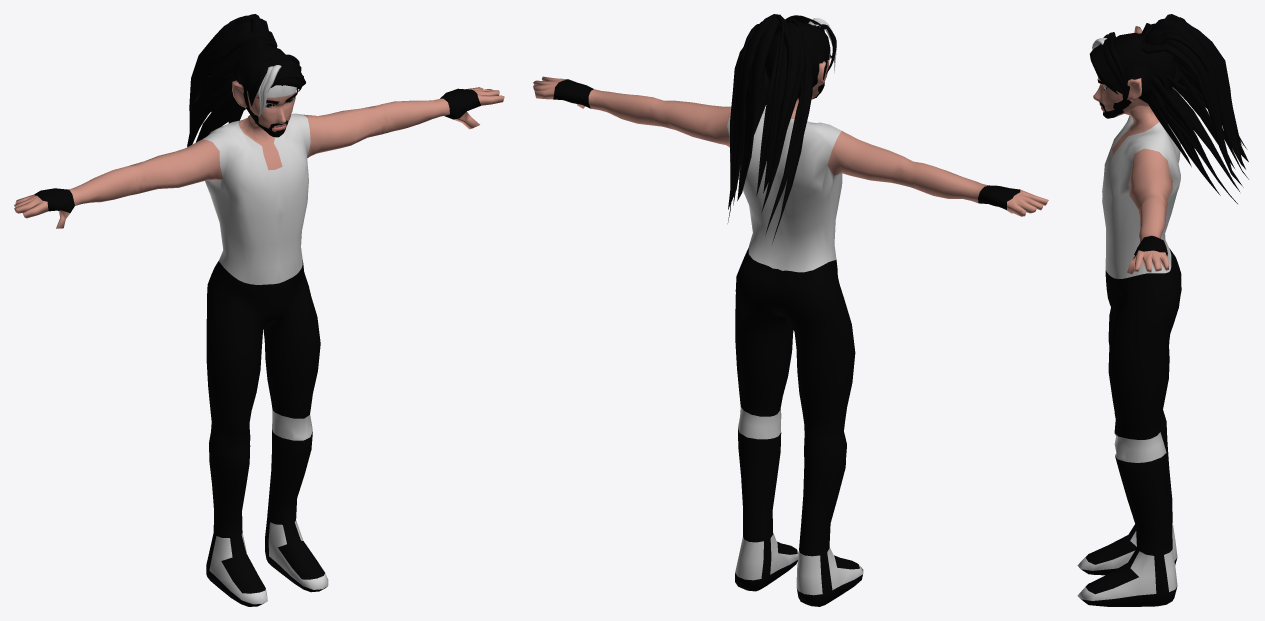
File: ANI_FORTE3.fbx
3 renders of one model, left to right at view 1: azimuth 30°, elevation 25°; view 2: azimuth 150°, elevation 25°; view 3: azimuth 270°, elevation 25°, orthographic. The views are drawn at different scales.
Visible parts, largest first — view 1: CABELO, CABELO.001, CABELO.002; view 2: CABELO, CABELO.001, CABELO.002; view 3: CABELO, CABELO.001, CABELO.002.
Boxes of the visible parts, x1=… form: CABELO: x1=14, y1=87, x2=504, y2=606; CABELO.001: x1=187, y1=14, x2=305, y2=146; CABELO.002: x1=232, y1=45, x2=298, y2=137; CABELO: x1=533, y1=76, x2=1048, y2=606; CABELO.001: x1=727, y1=14, x2=836, y2=243; CABELO.002: x1=763, y1=21, x2=831, y2=100; CABELO: x1=1077, y1=26, x2=1181, y2=606; CABELO.001: x1=1089, y1=14, x2=1248, y2=203; CABELO.002: x1=1093, y1=33, x2=1176, y2=118.
Bounding box in the file's own units: 220 × 241 × 66.06.
